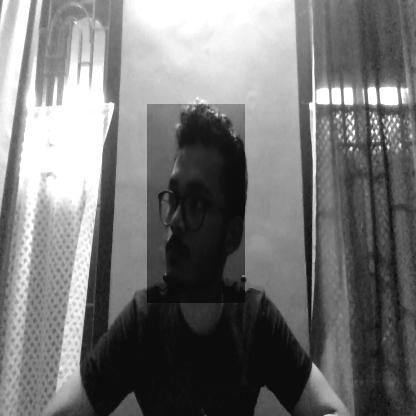Distracted: (147, 104, 245, 303)
